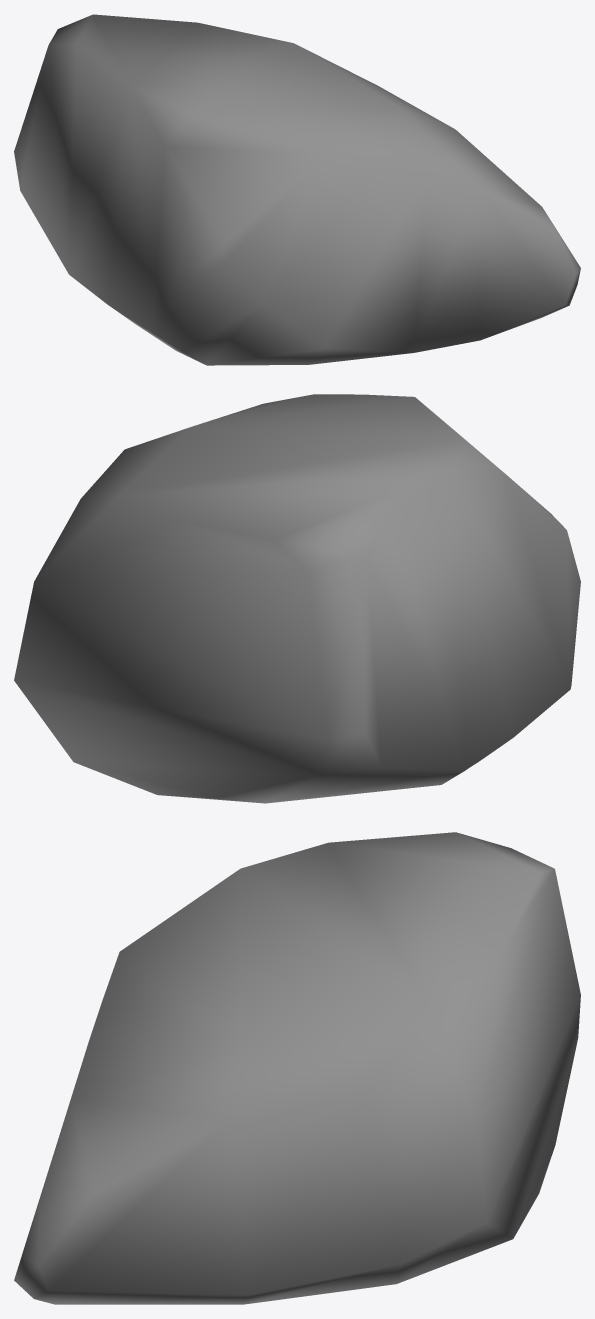
3 views of the same model, one above another, from view 1: azimuth 30°, elevation 25°; view 2: azimuth 150°, elevation 25°; view 3: azimuth 270°, elevation 25° (orthographic). The views are drawn at different scales.
Parts seen in each view (by area): view 1: submesh_0; view 2: submesh_0; view 3: submesh_0.
Boxes of the visible parts, bbox=[...] form: submesh_0: bbox=[14, 14, 580, 365]; submesh_0: bbox=[14, 394, 580, 803]; submesh_0: bbox=[14, 832, 580, 1304].
Bounding box in the file's own units: 1.99 × 1.21 × 2.12.
Materials: 1 (1 with a texture image).
